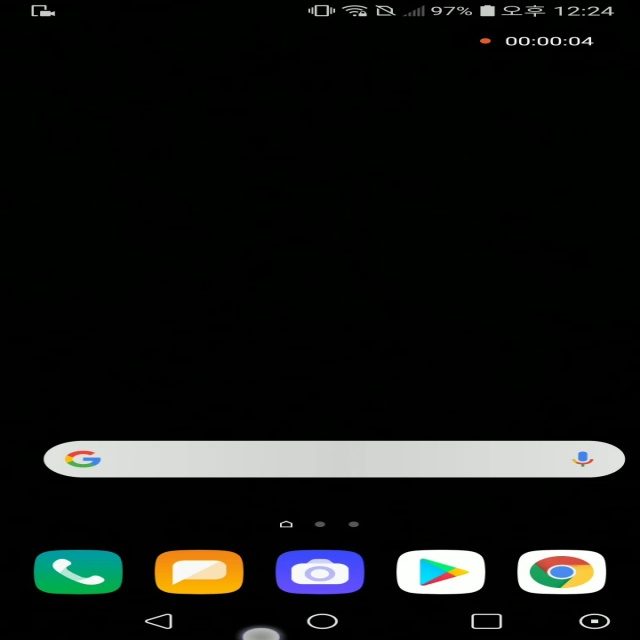Cursor: (239, 624, 280, 640)
